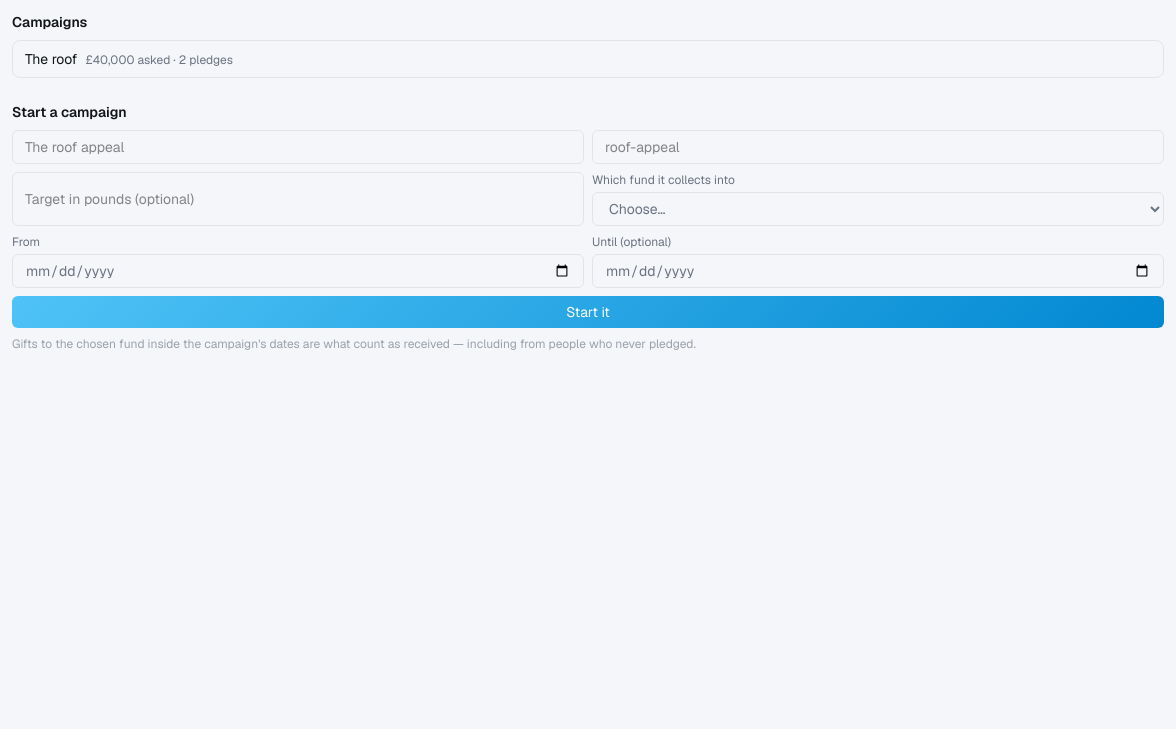
Test: the three numbers › shows received, promised and asked-for as three separate figures
Click the button "The roof£40,000 asked · 2 pledges" at x=51, y=59, box [12,40,1164,78]
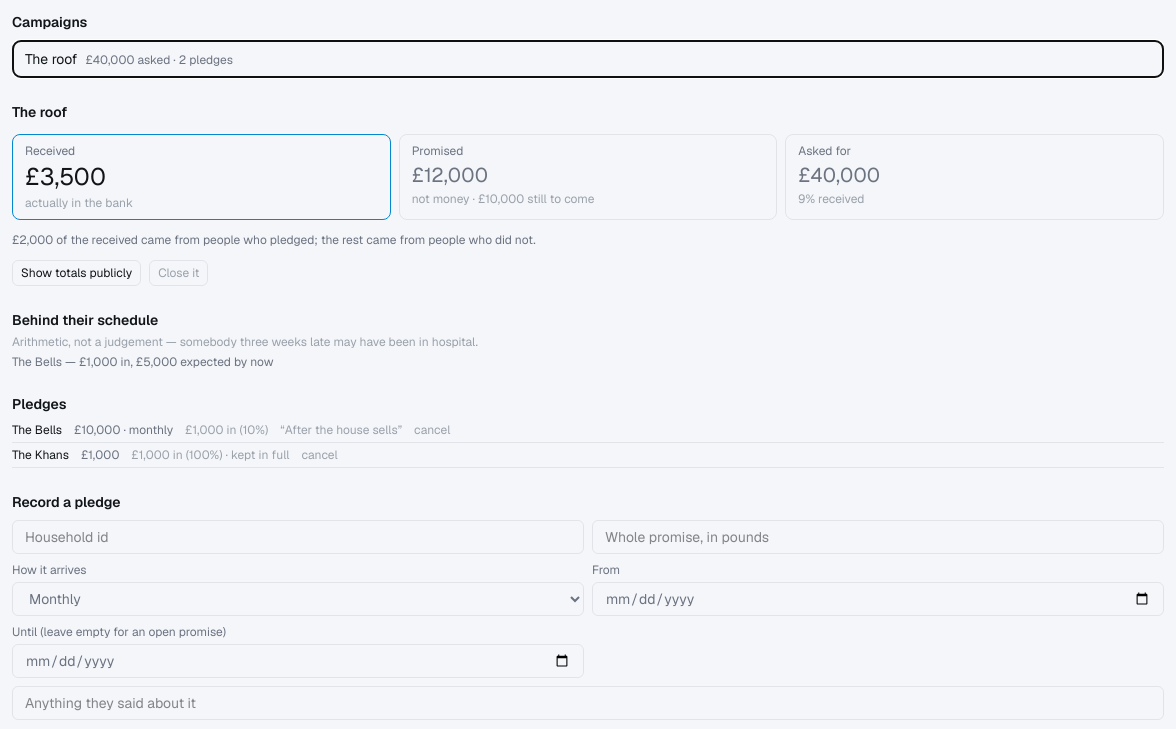
Check: the text "Received" is shown, box [25,143,75,159]
Check: the text "£3,500" is shown, box [25,161,106,192]
Check: the text "£12,000" is shown, box [412,162,488,188]
